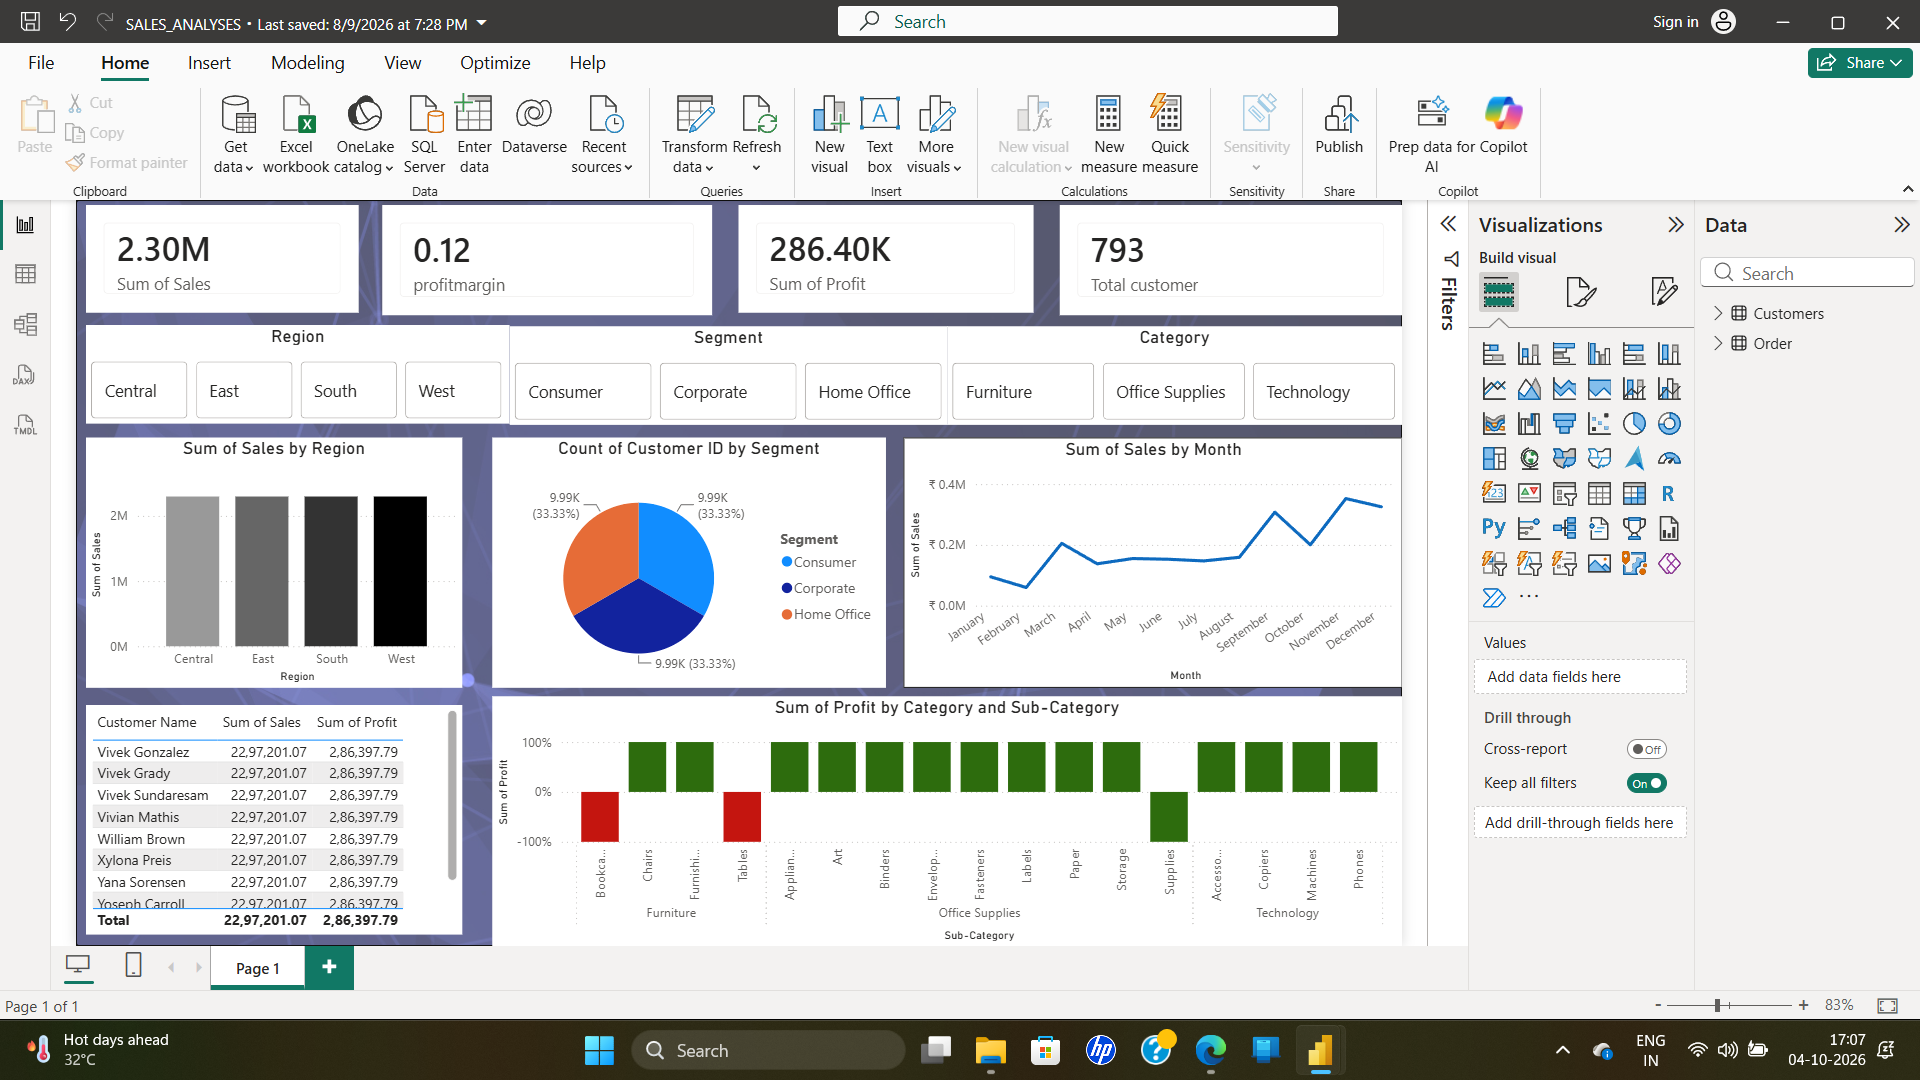

Layout of this report page (visuals, bound fields, positions):
{"tool":"powerbi","page":{"name":"Page 1","canvas":[1280,720],"ordinal":0},"visuals":[{"type":"cardVisual","fields":{"Data":["Sum(Order.Sales)"]},"box":[9.7,4.8,263,103.8],"z":0},{"type":"cardVisual","fields":{"Data":["Customers.Total customer"]},"box":[949.5,4.8,330.6,106.2],"z":1000},{"type":"cardVisual","fields":{"Data":["Order.profitmargin"]},"box":[295.6,4.8,318.5,106.2],"z":2000},{"type":"columnChart","fields":{"Category":["Customers.Region"],"Y":["Sum(Order.Sales)"]},"box":[9.7,229.2,363.1,241.3],"z":3000},{"type":"hundredPercentStackedColumnChart","fields":{"Category":["Order.Category","Order.Sub-Category"],"Y":["Sum(Order.Profit)"]},"box":[401.7,479,878.3,241.3],"z":4000},{"type":"lineChart","fields":{"Y":["Sum(Order.Sales)"],"Category":["Order.Order Date.Variation.Date Hierarchy.Month"]},"box":[798.7,229.2,481.4,241.3],"z":5000},{"type":"pieChart","fields":{"Category":["Customers.Segment"],"Y":["CountNonNull(Order.Customer ID)"]},"box":[401.7,229.2,380,241.3],"z":6000},{"type":"advancedSlicerVisual","fields":{"Values":["Customers.Region"]},"box":[9.7,120.6,409,95.3],"z":7000},{"type":"advancedSlicerVisual","fields":{"Values":["Order.Category"]},"box":[840.9,121.9,439.1,95.3],"z":8000},{"type":"cardVisual","fields":{"Data":["Sum(Order.Profit)"]},"box":[639.4,4.8,284.7,103.8],"z":9000},{"type":"tableEx","fields":{"Values":["Customers.Customer Name","Sum(Order.Sales)","Sum(Order.Profit)"]},"box":[9.7,487.4,363.1,222],"z":10000},{"type":"advancedSlicerVisual","fields":{"Values":["Customers.Segment"]},"box":[418.6,121.9,422.3,95.3],"z":11000}]}

Visuals, with their boxes on the page's 1280x720 design canvas (x1, y1, x2, y2). These are canvas units, not pixel positions in the 1920x1080 screenshot, which may show the page scaled, cropped or inside an application window:
cardVisual - Sum(Order.Sales): <region>10, 5, 273, 109</region>
cardVisual - Customers.Total customer: <region>950, 5, 1280, 111</region>
cardVisual - Order.profitmargin: <region>296, 5, 614, 111</region>
columnChart - Customers.Region x Sum(Order.Sales): <region>10, 229, 373, 470</region>
hundredPercentStackedColumnChart - Order.Category x Order.Sub-Category: <region>402, 479, 1280, 720</region>
lineChart - Sum(Order.Sales) x Order.Order Date.Variation.Date Hierarchy.Month: <region>799, 229, 1280, 470</region>
pieChart - Customers.Segment x CountNonNull(Order.Customer ID): <region>402, 229, 782, 470</region>
advancedSlicerVisual - Customers.Region: <region>10, 121, 419, 216</region>
advancedSlicerVisual - Order.Category: <region>841, 122, 1280, 217</region>
cardVisual - Sum(Order.Profit): <region>639, 5, 924, 109</region>
tableEx - Customers.Customer Name x Sum(Order.Sales): <region>10, 487, 373, 709</region>
advancedSlicerVisual - Customers.Segment: <region>419, 122, 841, 217</region>
